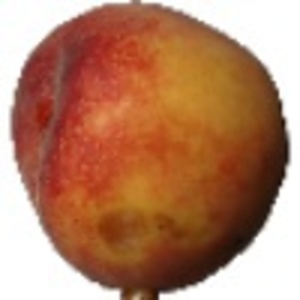pêssego: (3, 1, 290, 300)
